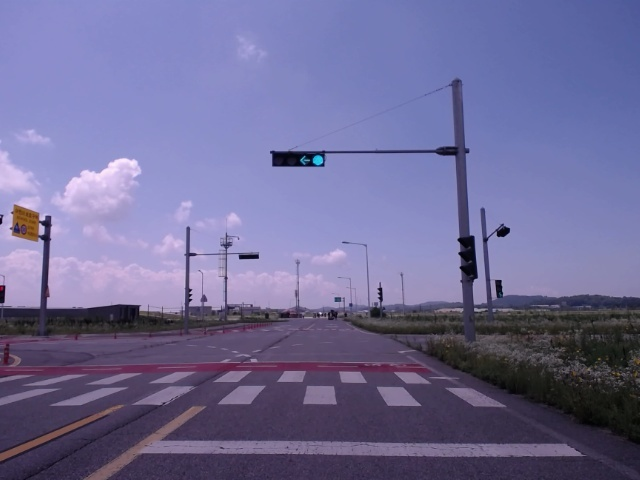all_green_4: (270, 151, 328, 169)
